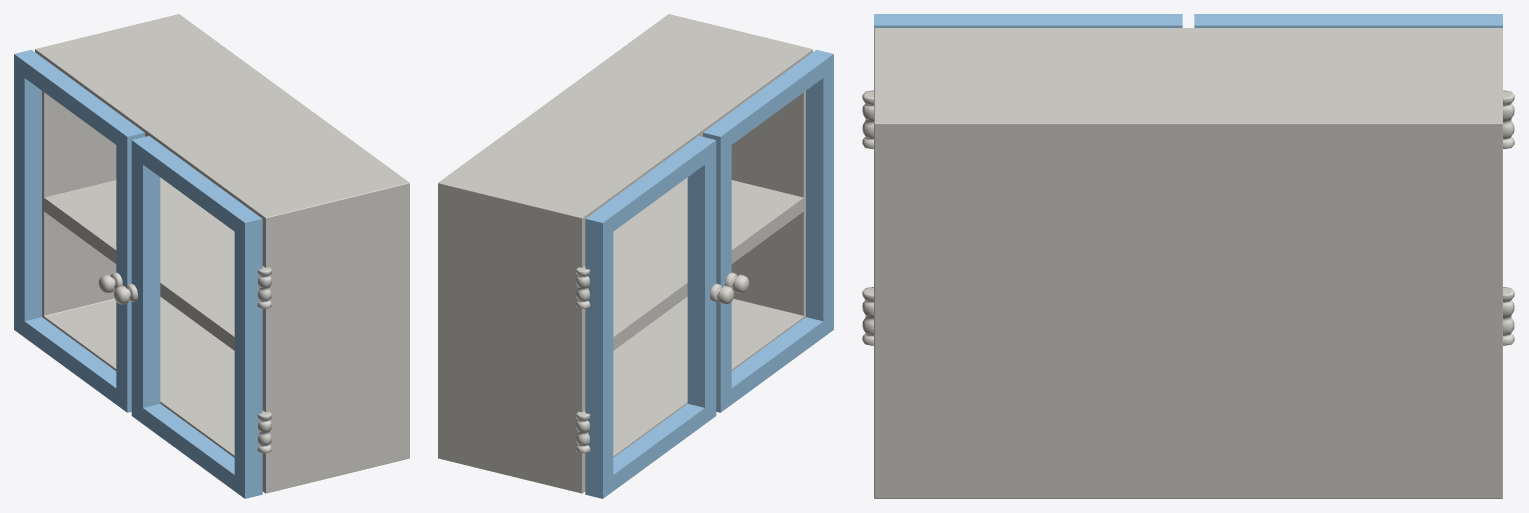
Rendered from Cupboard.fbx.
3 renders of one model, left to right at view 1: azimuth 30°, elevation 25°; view 2: azimuth 150°, elevation 25°; view 3: azimuth 270°, elevation 25°, orthographic. The views are drawn at different scales.
Visible parts, largest first — view 1: Cupboard; view 2: Cupboard; view 3: Cupboard.
Part boxes in pixels (x1,y1,x2,y2): Cupboard: (14,14,409,498); Cupboard: (438,14,833,498); Cupboard: (862,14,1514,498).
Size of the model in its own units: 33.56 by 47.46 by 74.74.
